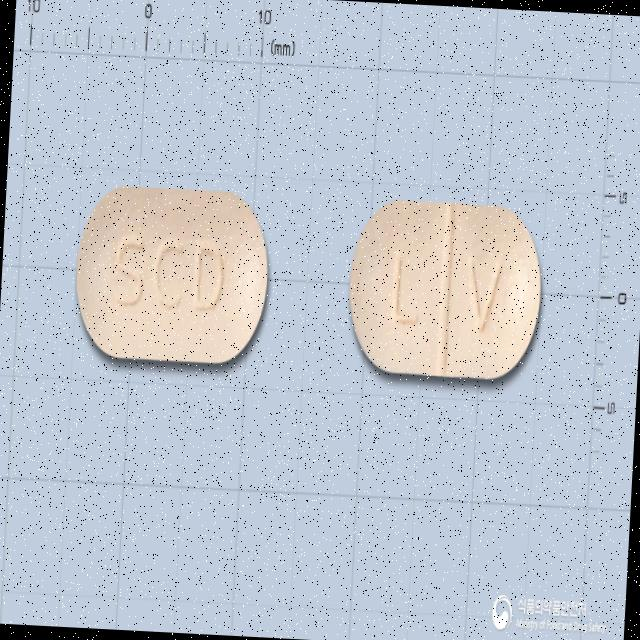Levostar: (344, 199, 546, 382), (73, 183, 273, 367)
